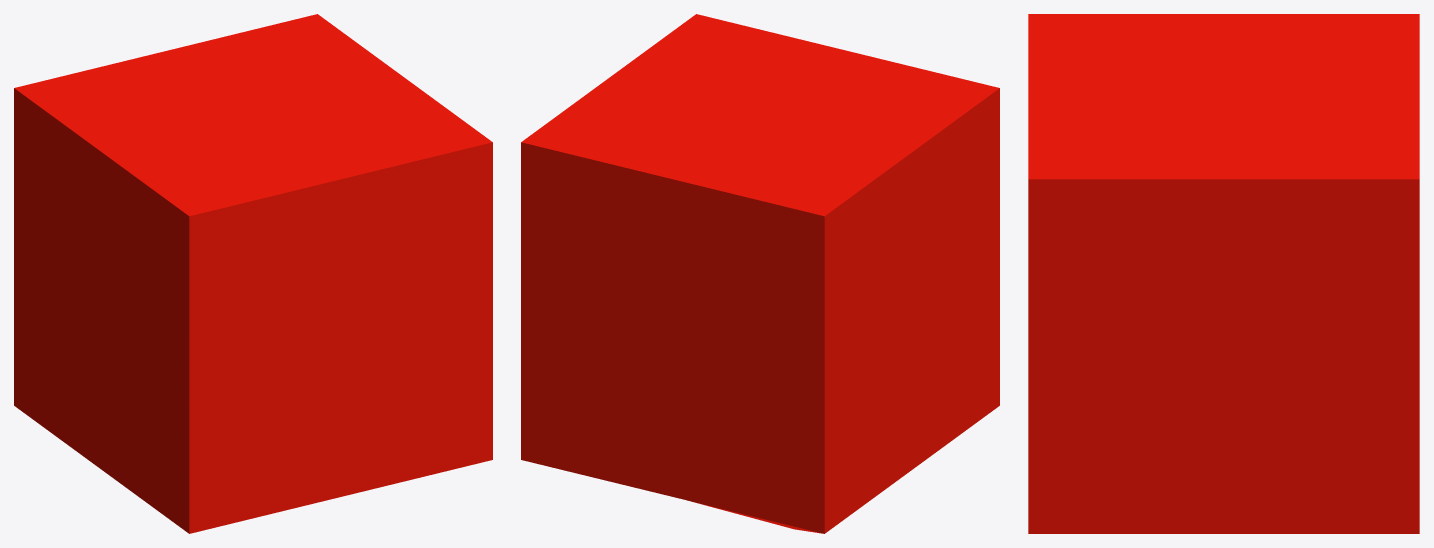
3 renders of one model, left to right at view 1: azimuth 30°, elevation 25°; view 2: azimuth 150°, elevation 25°; view 3: azimuth 270°, elevation 25°, orthographic. The views are drawn at different scales.
Visible parts, largest first — view 1: Cube; view 2: Cube; view 3: Cube.
Part boxes in pixels (left/top/right/bottom): Cube: left=14, top=14, right=492, bottom=533; Cube: left=521, top=14, right=999, bottom=533; Cube: left=1028, top=14, right=1419, bottom=533.
Bounding box in the file's own units: 2 × 2.17 × 2.
